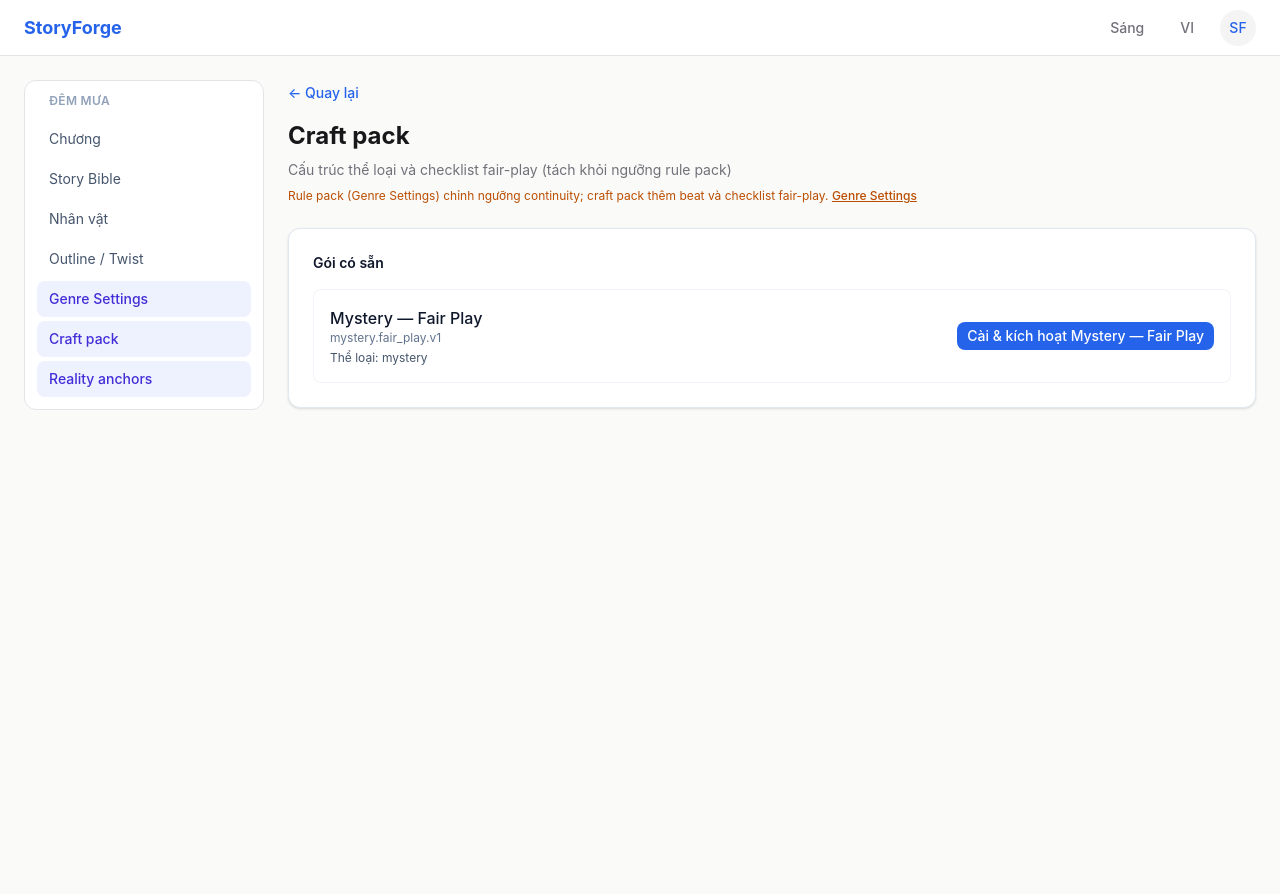
craft settings › installs and activates mystery pack
Check: the text "Mystery — Fair Play" is shown, box x1=330 y1=306 x2=482 y2=330
Step 1. Click the button "Cài & kích hoạt Mystery — Fair Play" → x=1086, y=336, box x1=957 y1=322 x2=1214 y2=350
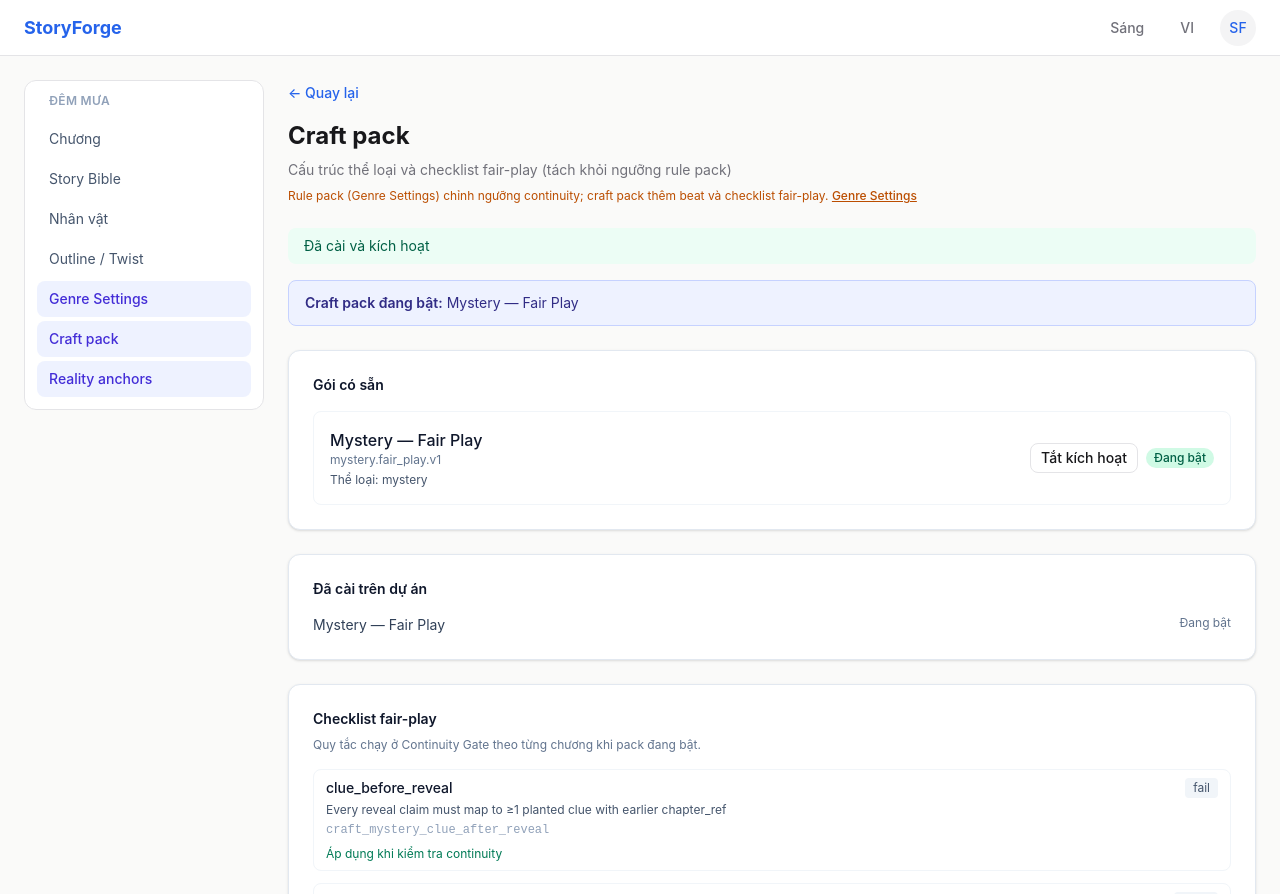
Check: the text "Đã cài và kích hoạt" is shown, box x1=288 y1=228 x2=1256 y2=264
Check: the text "Craft pack đang bật:" is shown, box x1=305 y1=294 x2=443 y2=311
Check: the heading "Checklist fair-play" is shown, box x1=313 y1=710 x2=437 y2=727
